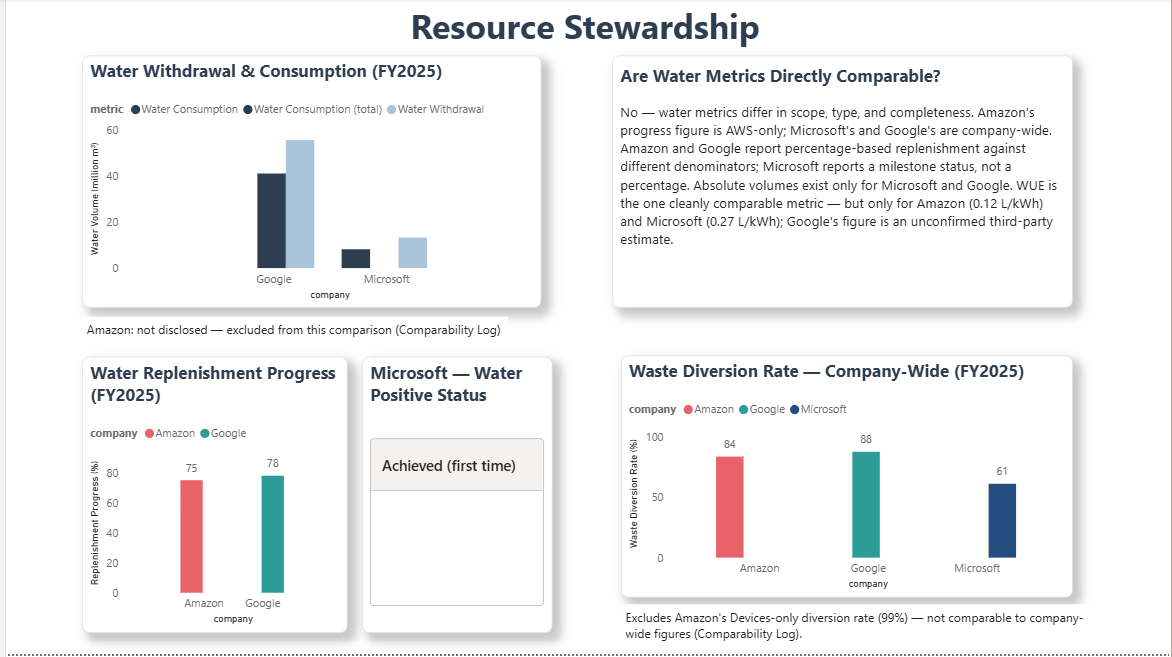

The dashboard page shown, as its layout file describes it:
{"tool":"powerbi","page":{"name":"Resource Stewardship","canvas":[1280,720],"ordinal":3},"visuals":[{"type":"textbox","box":[438.6,0,402.9,62.9],"z":0},{"type":"clusteredColumnChart","title":"Water Withdrawal & Consumption (FY2025)","fields":{"Category":["esg_data_export.company"],"Y":["Sum(esg_data_export.value_numeric)"],"Series":["esg_data_export.metric"]},"box":[84.3,62.9,504.3,277.1],"z":1000},{"type":"textbox","box":[84.3,350,467.1,40],"z":2000},{"type":"clusteredColumnChart","title":"Water Replenishment Progress (FY2025)","fields":{"Category":["esg_data_export.company"],"Series":["esg_data_export.company"],"Y":["Sum(esg_data_export.value_numeric)"]},"box":[84.3,394.3,291.4,302.9],"z":3000},{"type":"cardVisual","title":"Microsoft — Water Positive Status","fields":{"Rows":["esg_data_export.value_text"]},"box":[391.4,394.3,208.6,302.9],"z":4000},{"type":"textbox","box":[665.7,62.9,505.7,277.1],"z":5000},{"type":"clusteredColumnChart","title":"Waste Diversion Rate — Company-Wide (FY2025)","fields":{"Category":["esg_data_export.company"],"Series":["esg_data_export.company"],"Y":["Sum(esg_data_export.value_numeric)"]},"box":[675.7,392.9,495.7,265.7],"z":6000},{"type":"textbox","box":[675.7,665.7,525.7,51.4],"z":7000}]}

Visuals, with their boxes in screenshot pixels (x1, y1, x2, y2), scaled from the page's 1280x720 canvas onto the 1172x657 screenshot:
textbox: select_region(402, 0, 770, 57)
"Water Withdrawal & Consumption (FY2025)" clusteredColumnChart: select_region(77, 57, 539, 310)
textbox: select_region(77, 319, 505, 356)
"Water Replenishment Progress (FY2025)" clusteredColumnChart: select_region(77, 360, 344, 636)
"Microsoft — Water Positive Status" cardVisual: select_region(358, 360, 549, 636)
textbox: select_region(610, 57, 1073, 310)
"Waste Diversion Rate — Company-Wide (FY2025)" clusteredColumnChart: select_region(619, 359, 1073, 601)
textbox: select_region(619, 607, 1100, 654)
